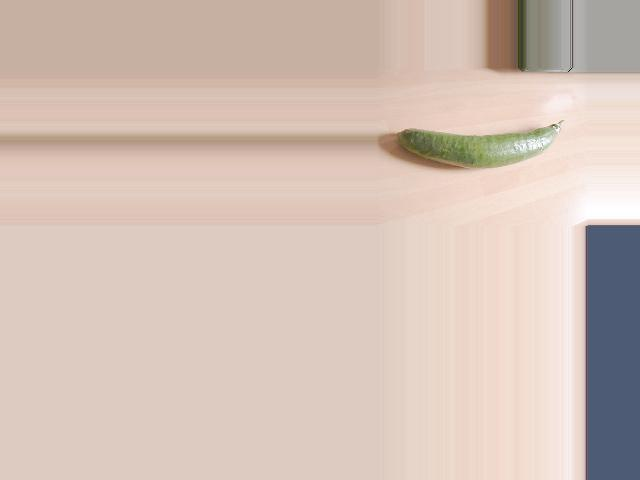cucumber: (395, 120, 565, 169)
